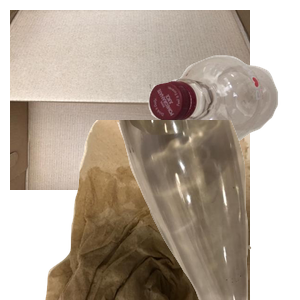cardboard: (10, 10, 250, 190)
glass: (115, 120, 300, 300)
plastic: (146, 53, 300, 187)
trash: (43, 120, 283, 300)
